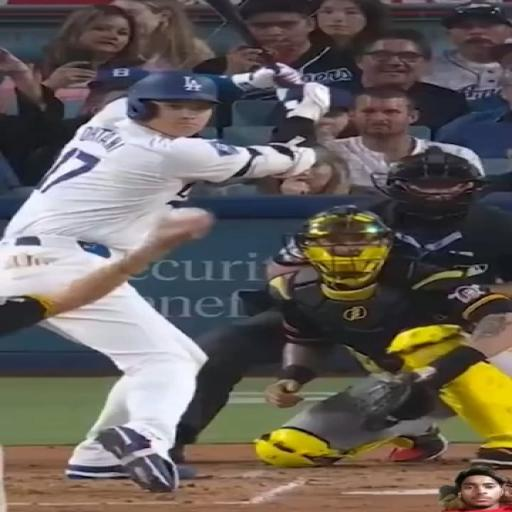bat: (205, 0, 275, 66)
